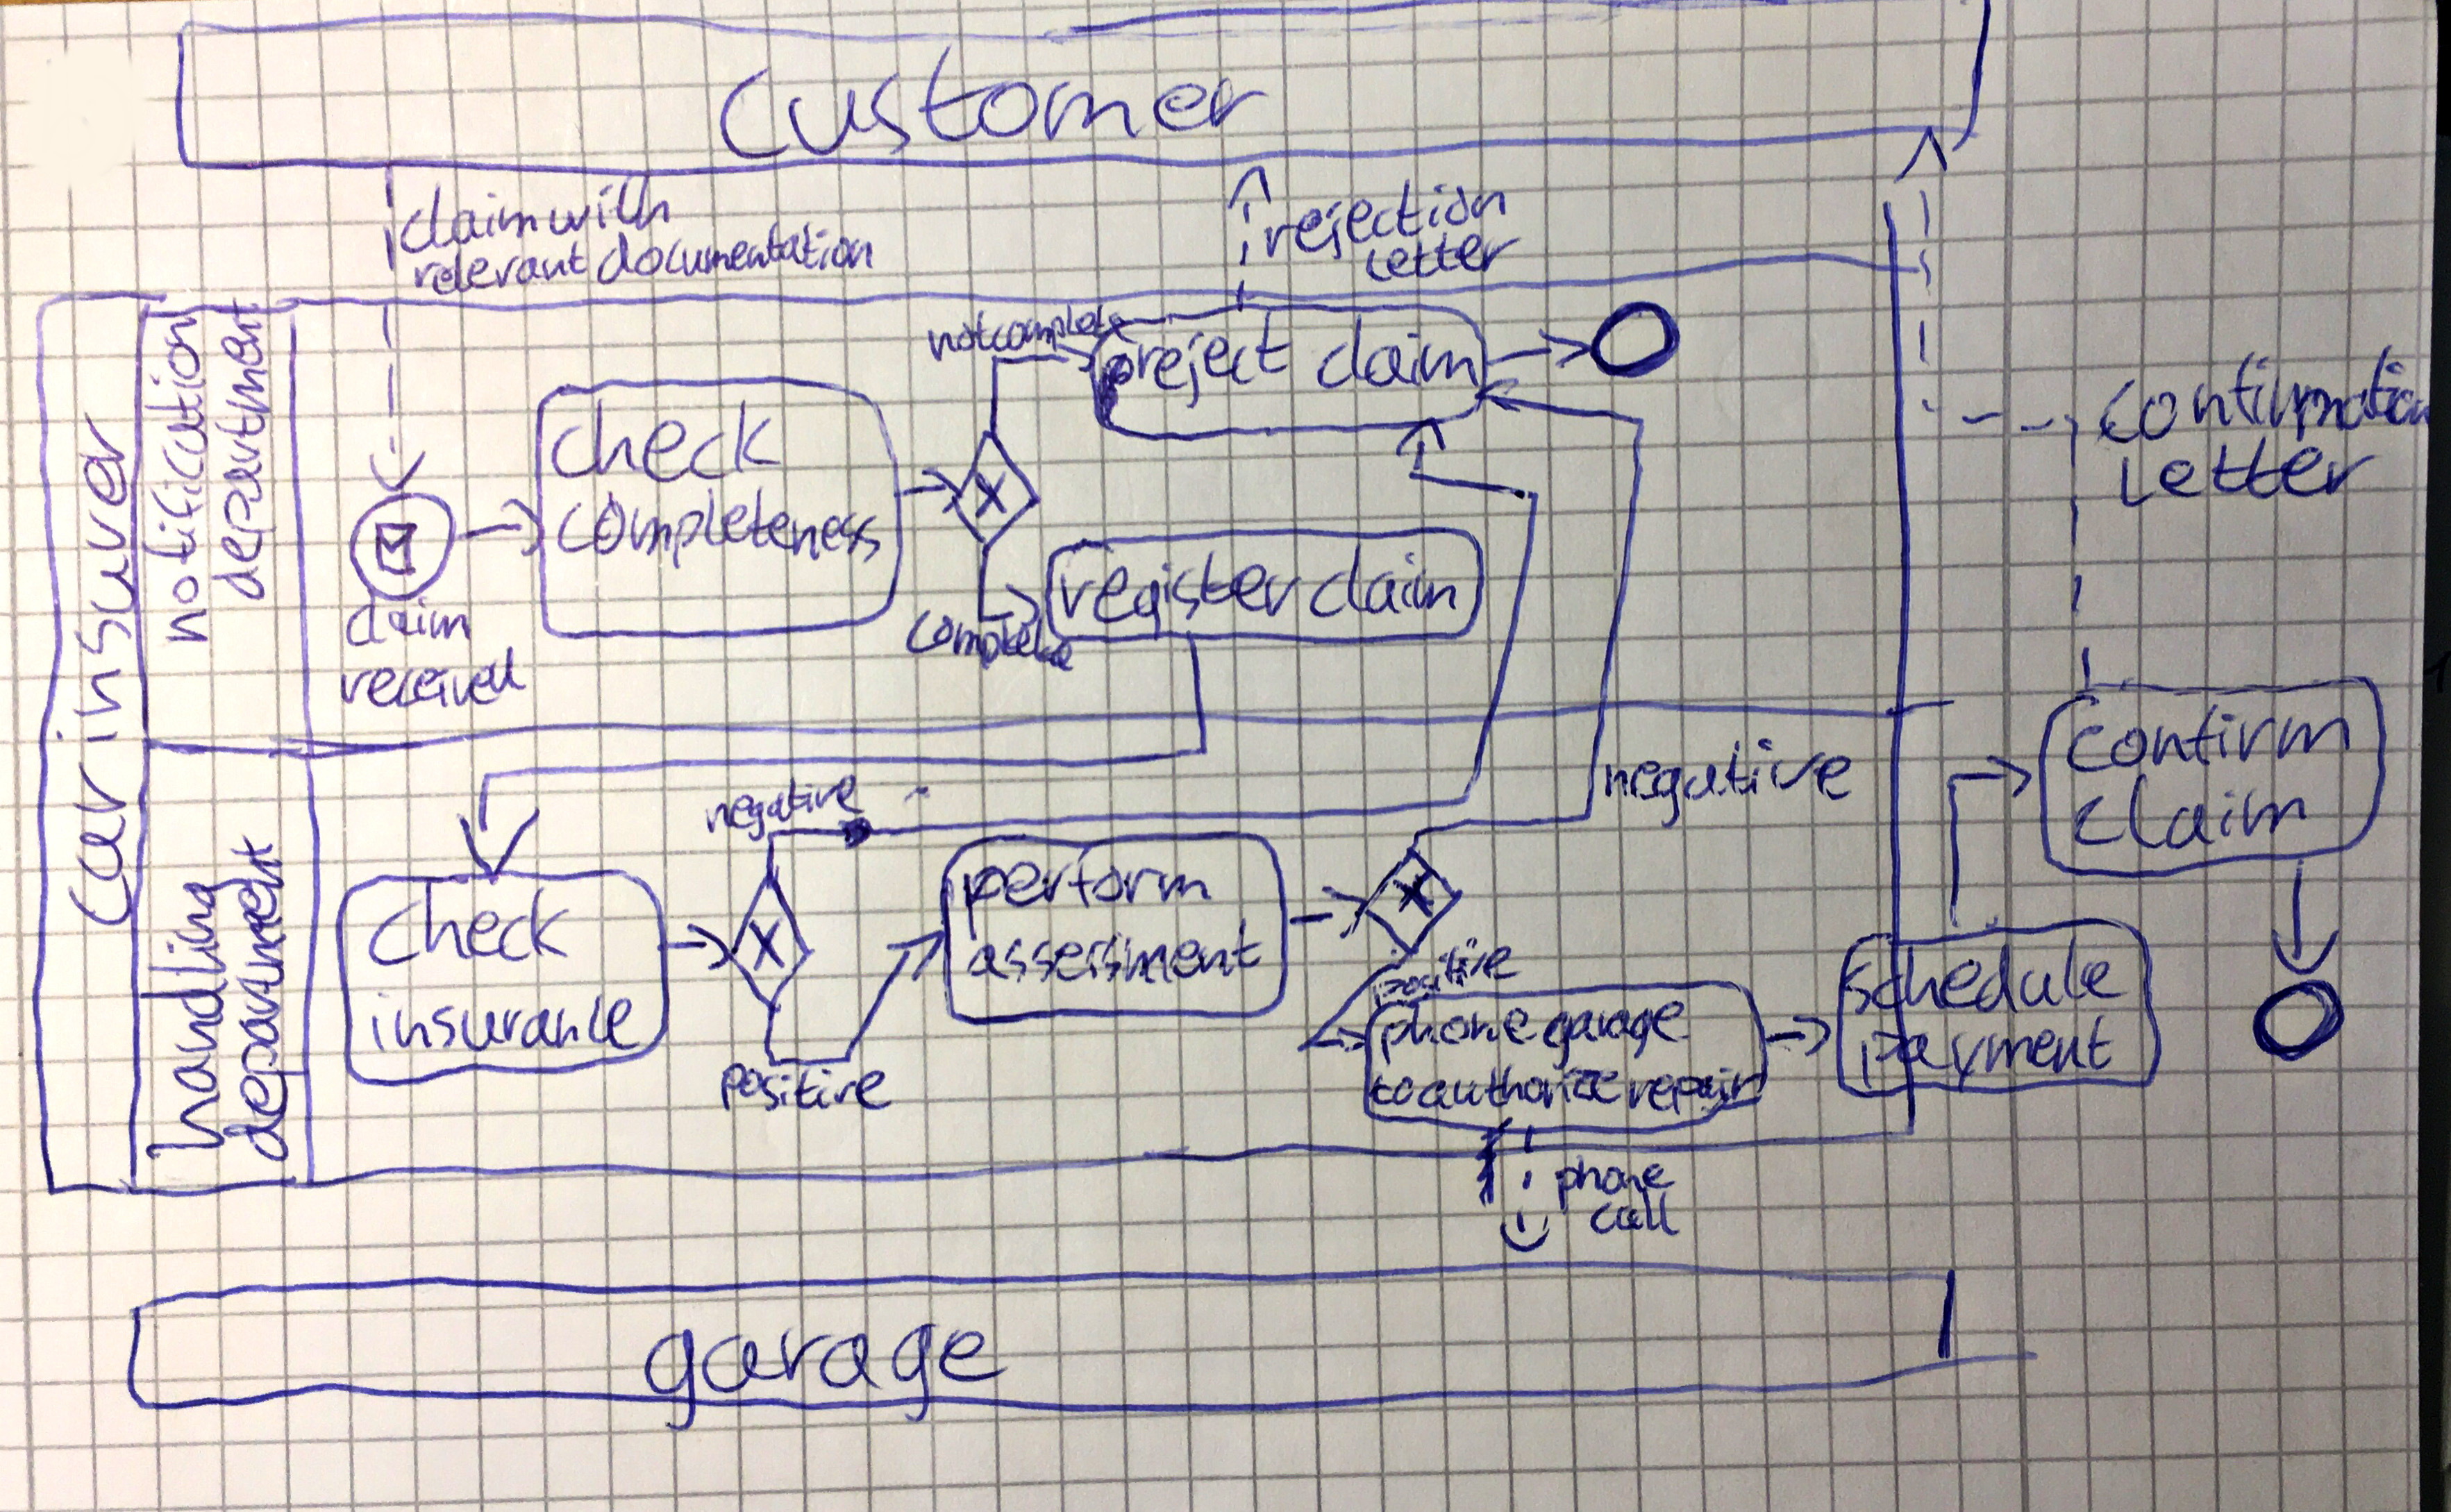Complete: (896, 602, 1082, 679)
Customer: (704, 33, 1280, 172)
assessment: (958, 912, 1269, 992)
authorize: (1411, 1057, 1628, 1116)
call: (1583, 1179, 1688, 1242)
car: (54, 753, 142, 936)
check: (543, 388, 790, 492), (357, 870, 579, 975)
claim: (2059, 760, 2316, 861), (1310, 306, 1490, 397), (1303, 534, 1467, 626), (392, 173, 546, 261), (336, 579, 478, 655)
complete: (986, 297, 1145, 357)
completeness: (548, 478, 889, 577)
confirm: (2057, 693, 2360, 779)
confirmation: (2090, 333, 2435, 450)
department: (215, 824, 315, 1169), (200, 291, 285, 609)
documentation: (592, 215, 881, 292)
garage: (634, 1314, 1021, 1442), (1535, 996, 1698, 1076)
handling: (131, 870, 261, 1169)
insurance: (362, 984, 648, 1060)
insurer: (49, 401, 145, 754)
letter: (2106, 427, 2390, 518), (1360, 224, 1528, 289)
negative: (1597, 730, 1861, 837), (699, 766, 872, 847)
not: (921, 306, 993, 366)
notification: (131, 306, 217, 651)
payment: (1854, 1005, 2120, 1101)
perform: (956, 835, 1222, 949)
phone: (1373, 996, 1544, 1073), (1548, 1148, 1684, 1223)
positive: (1367, 931, 1528, 1015), (714, 1057, 903, 1120)
received: (333, 640, 534, 718)
register: (1049, 542, 1313, 649)
reject: (1126, 301, 1303, 415)
rejection: (1259, 172, 1513, 268)
relevant: (408, 235, 597, 303)
repair: (1621, 1060, 1770, 1122)
schedule: (1829, 929, 2138, 1020)
to: (1364, 1066, 1418, 1115)
with: (543, 164, 678, 241)
